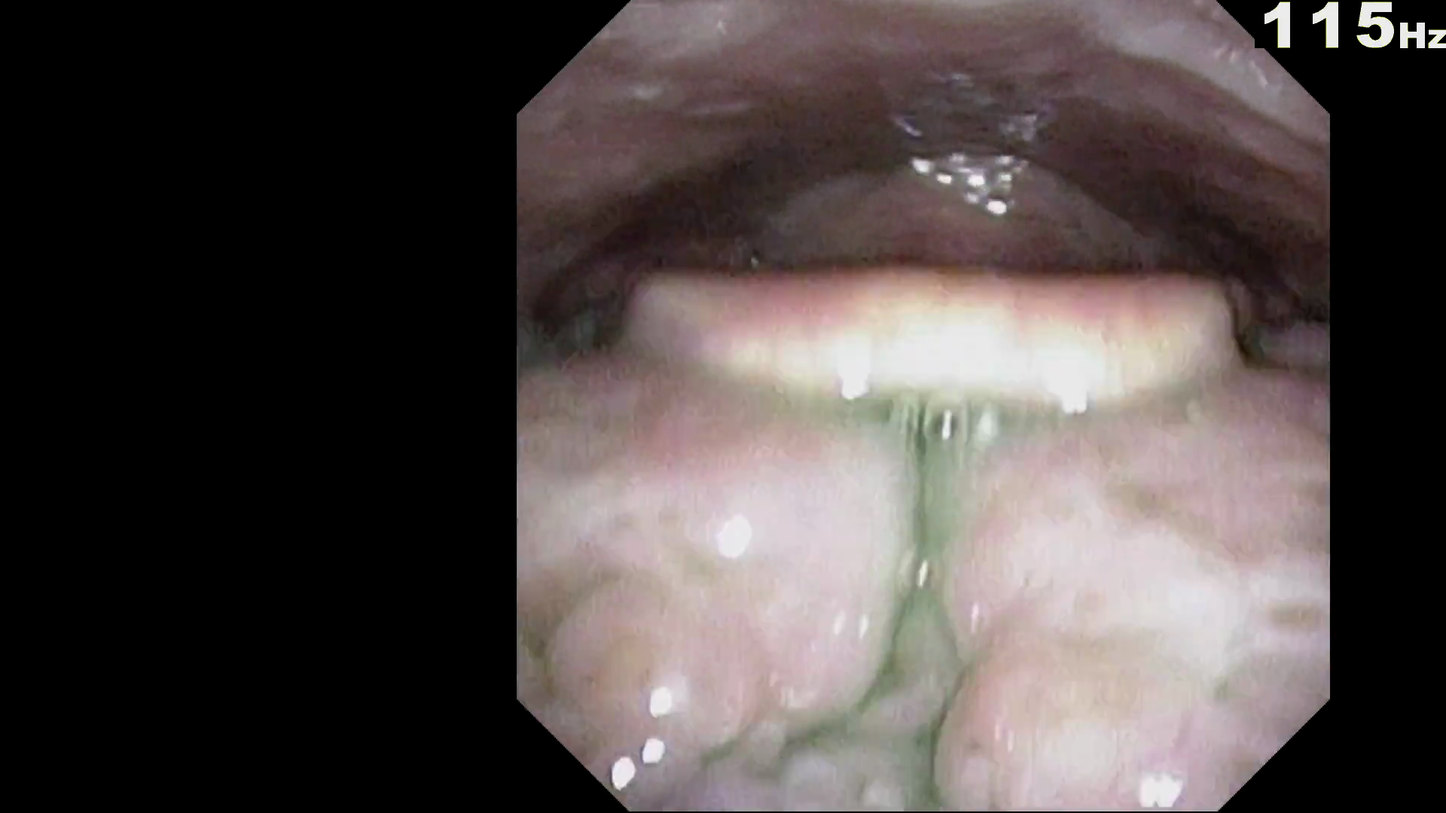epiglottis: (569, 308, 1286, 504)
trachea: (859, 355, 1045, 447), (928, 341, 1047, 476)
